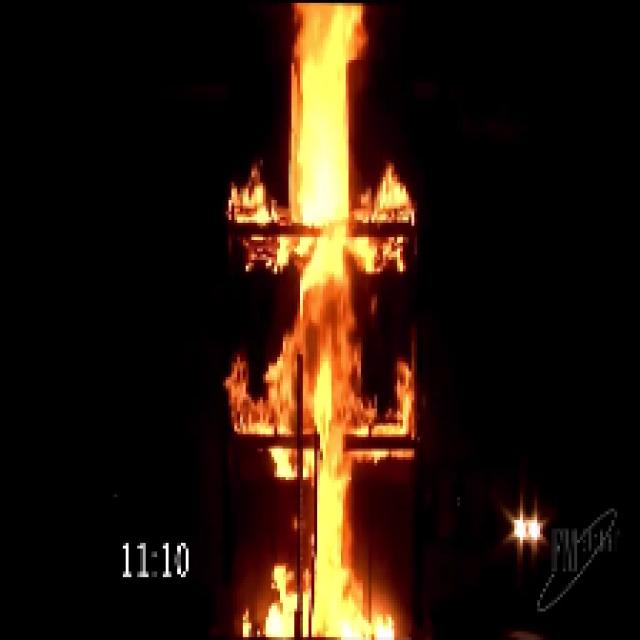fire: (262, 6, 372, 637)
